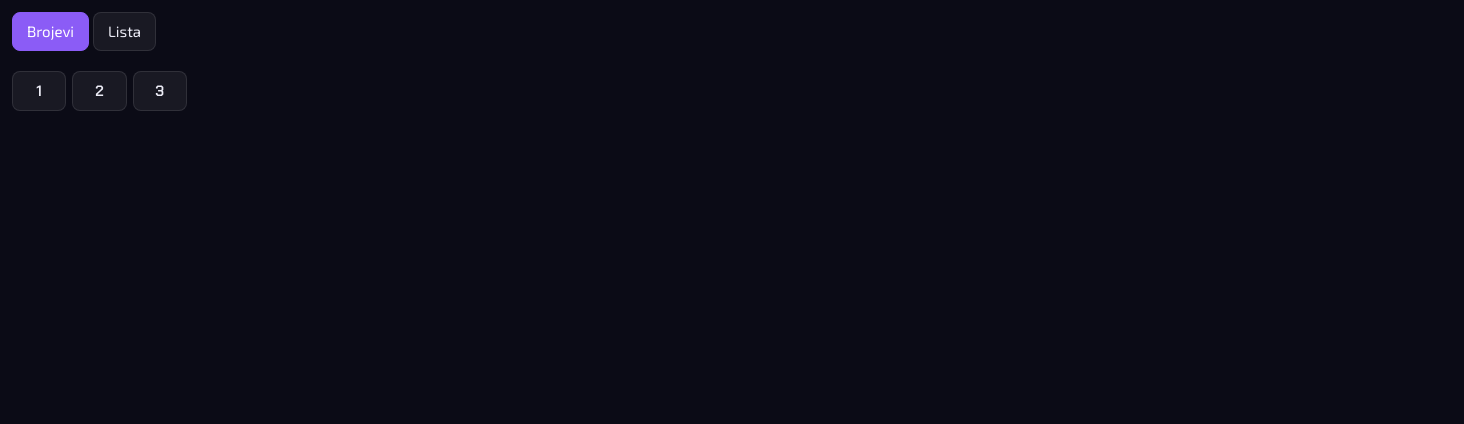
Scenario: EpisodePicker list view › switches to the list and remembers it
Click the button "Lista": (125, 31) x1=93 y1=12 x2=156 y2=50
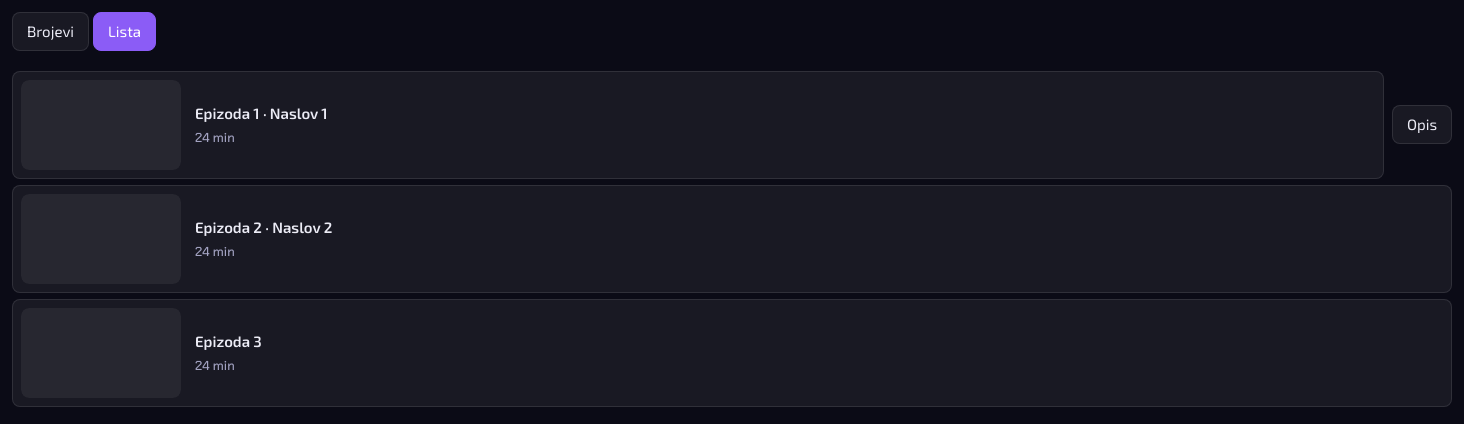
Check: the text "Epizoda 1 · Naslov 1" is shown, box x1=195 y1=102 x2=328 y2=124
